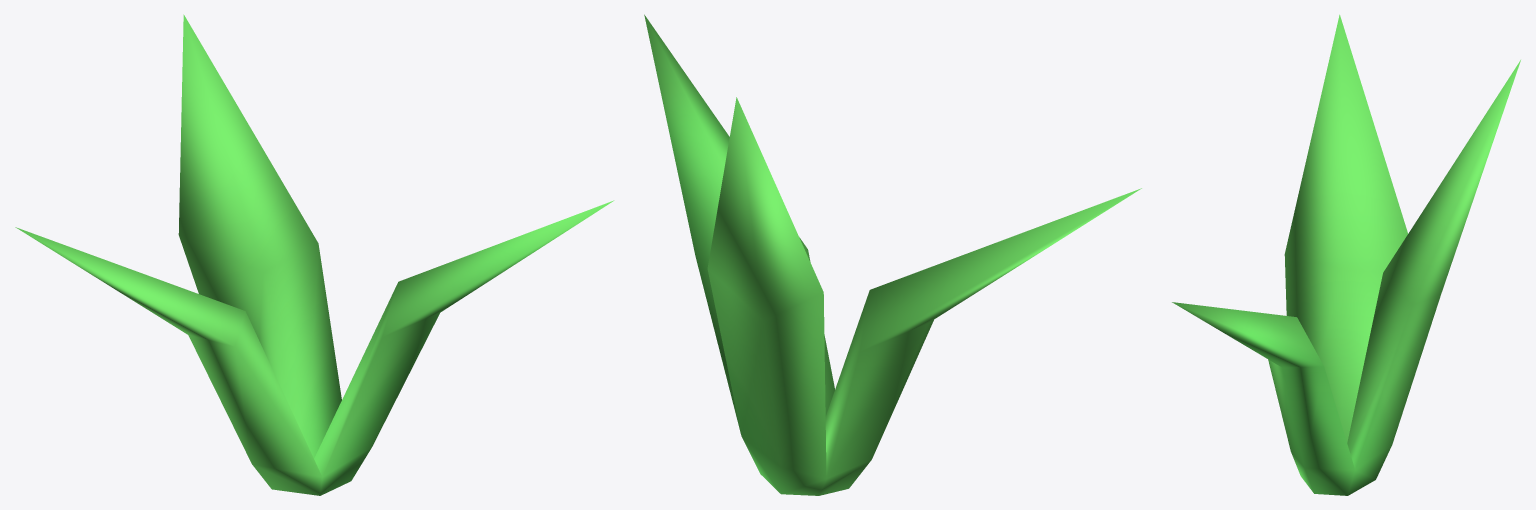
Rendered from grass.fbx.
The picture shows the model from 3 angles, left to right: view 1: azimuth 30°, elevation 25°; view 2: azimuth 150°, elevation 25°; view 3: azimuth 270°, elevation 25°; orthographic projection. The views are drawn at different scales.
Parts seen in each view (by area): view 1: glass; view 2: glass; view 3: glass.
Boxes of the visible parts, x1,y1,x2,y2 form: glass: (15,14,614,495); glass: (644,14,1141,495); glass: (1172,14,1520,495).
Bounding box in the file's own units: 0.5479 × 0.4124 × 0.3231.
Materials: 1 (1 with a texture image).
